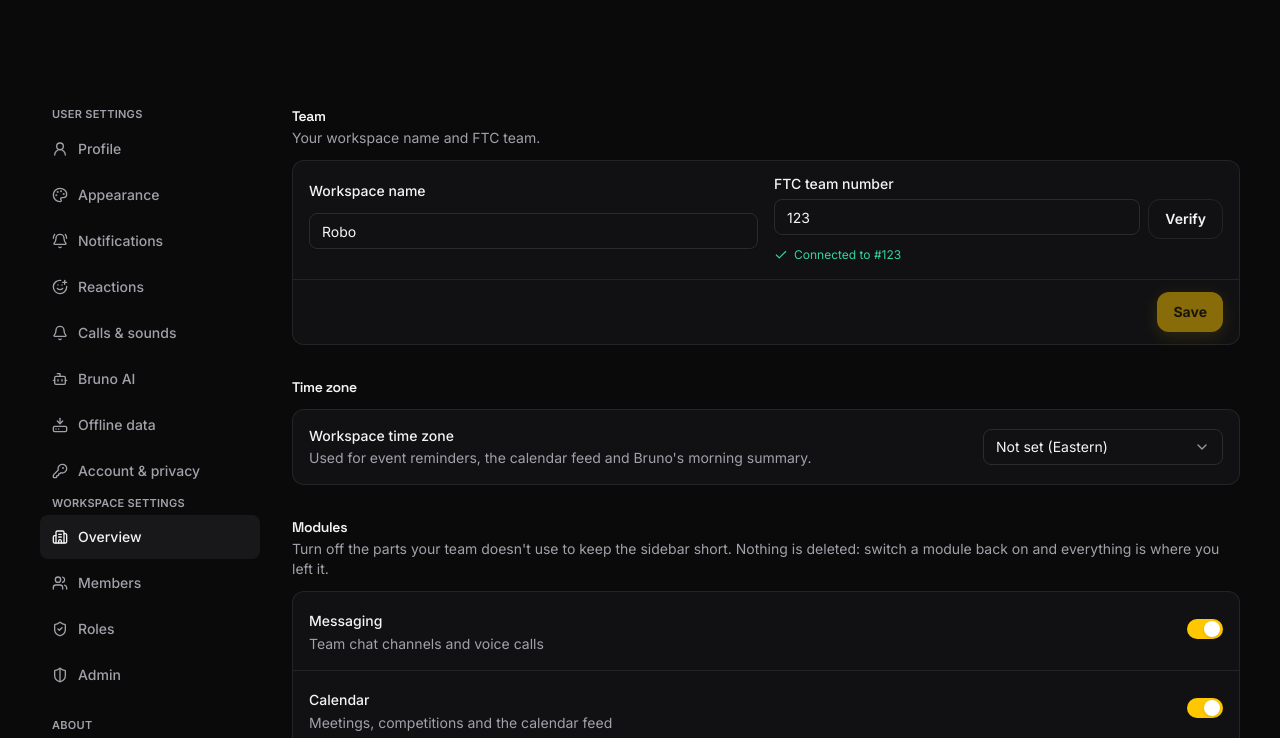
Scenario: Modern Settings — workspace & admin › admins verify and save the FTC team with the Legacy body; invite code regenerates after a second click
This screenshot has width=1280, height=738.
Replace the text in the field labelled "FTC team number" with "4215": coordinates (957, 217) [774,199,1140,235]
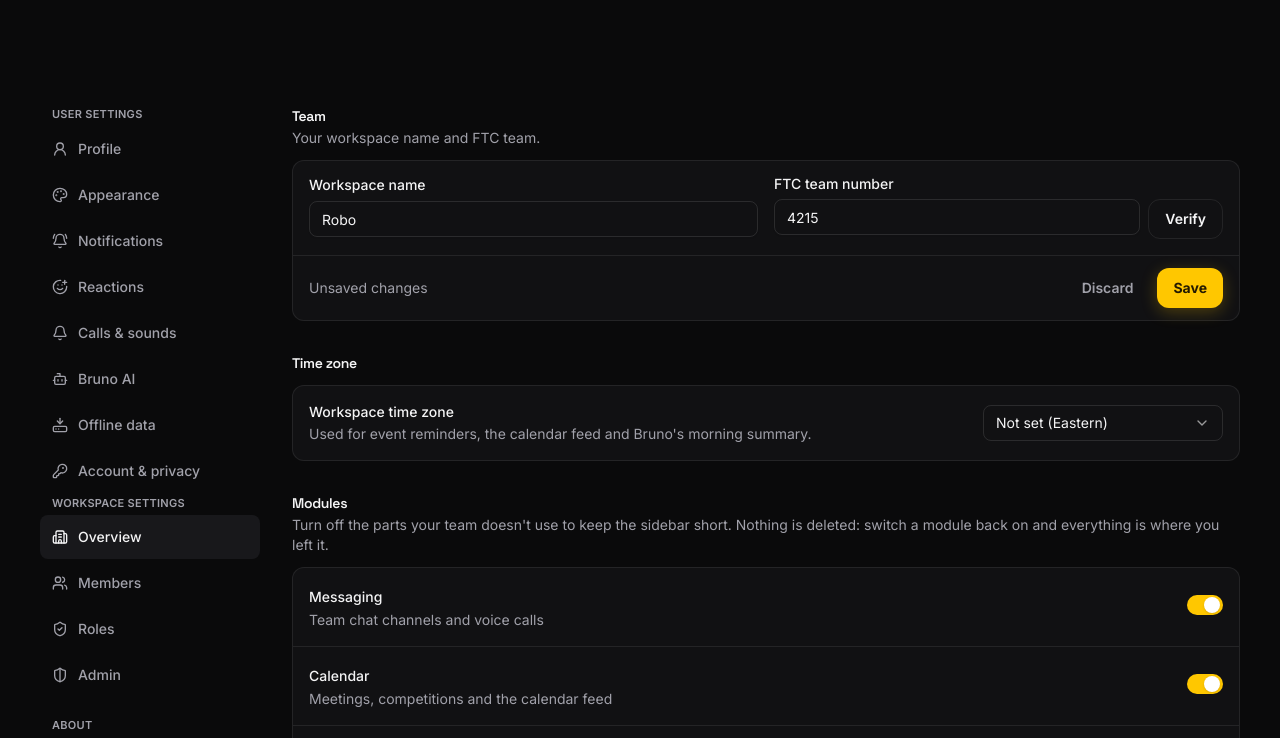
Click the button "Verify": coordinates (1186, 219) [1148,199,1223,239]
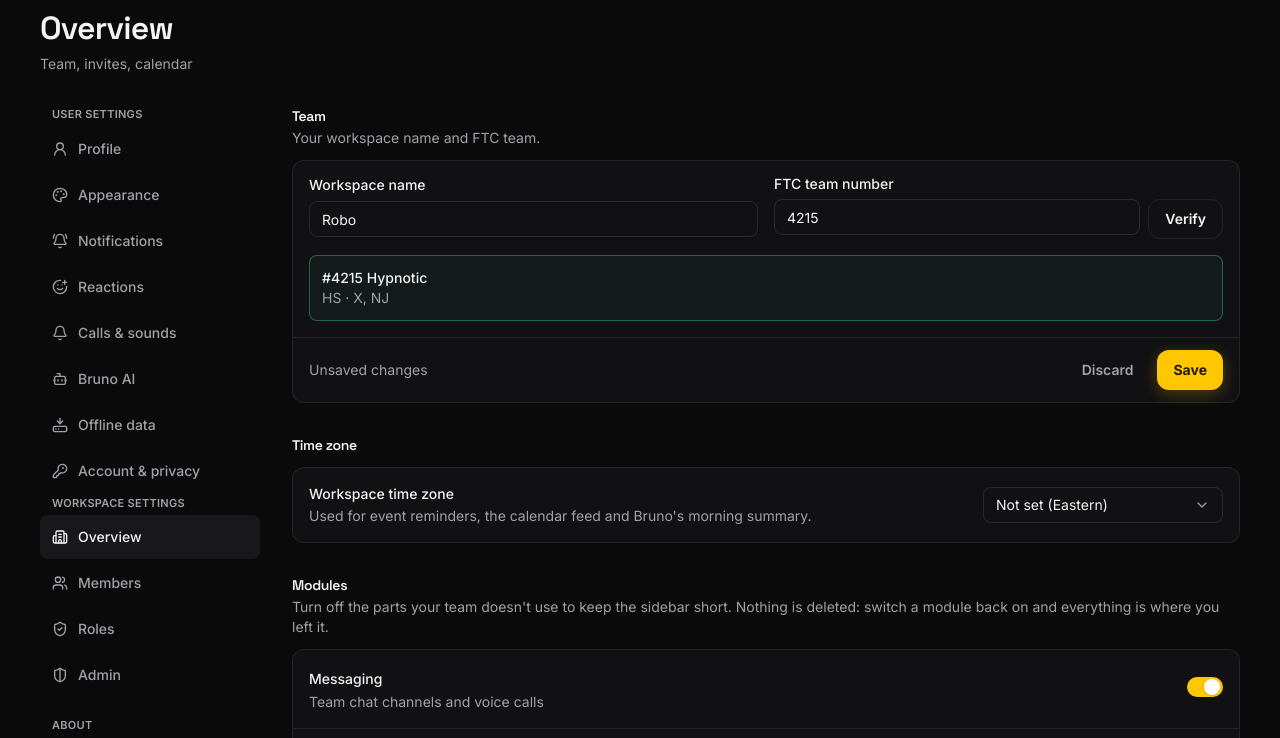
Expected: the text "#4215 Hypnotic" is shown, [322,269,427,286]
Click the button "Save": coordinates (1190, 370) [1158,350,1223,390]
(page scrolled)
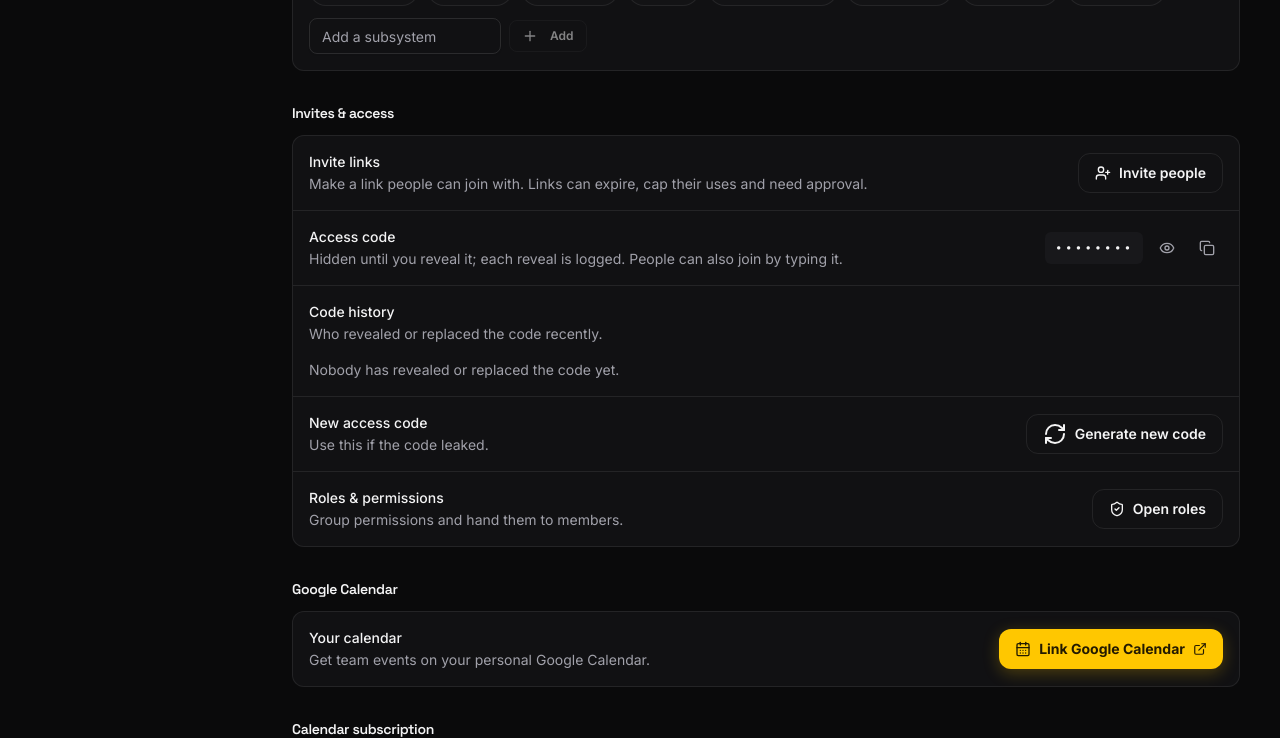
Click the button "Generate new code": coordinates (1124, 434) [1026,414,1223,454]
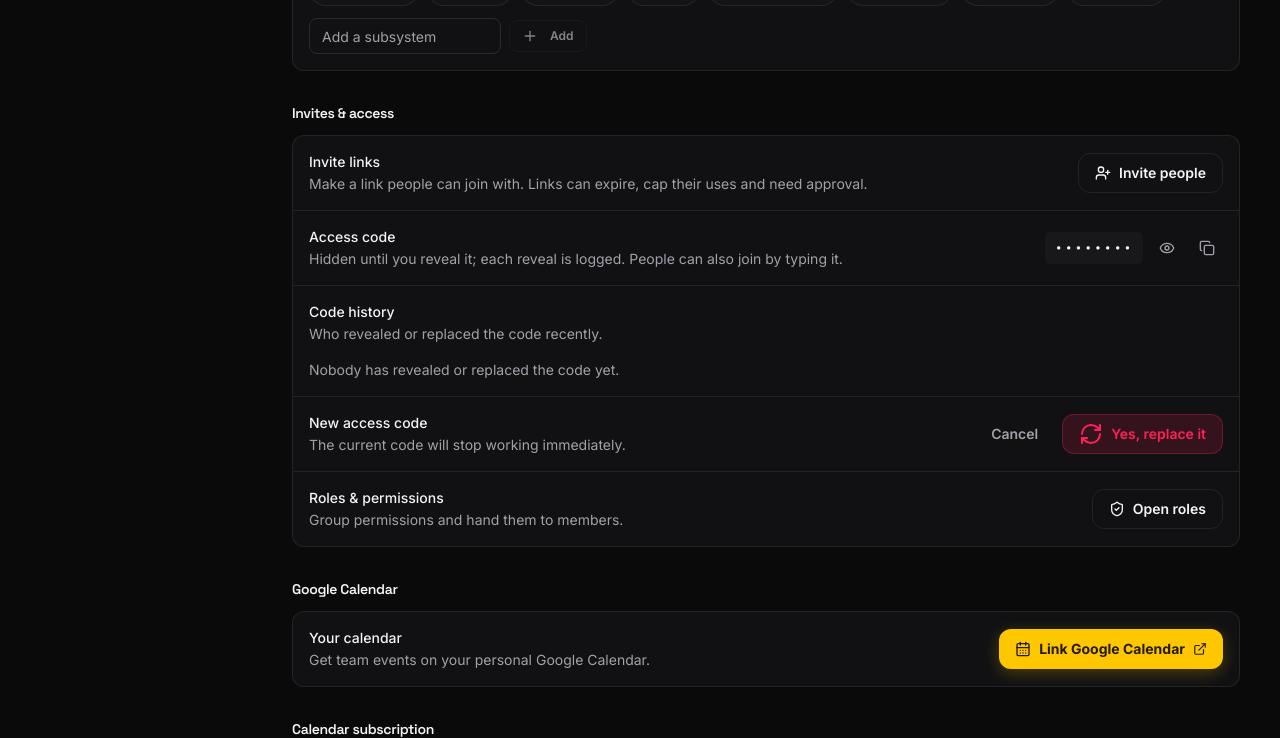
Click the button "Yes, replace it": coordinates (1143, 434) [1062,414,1223,454]
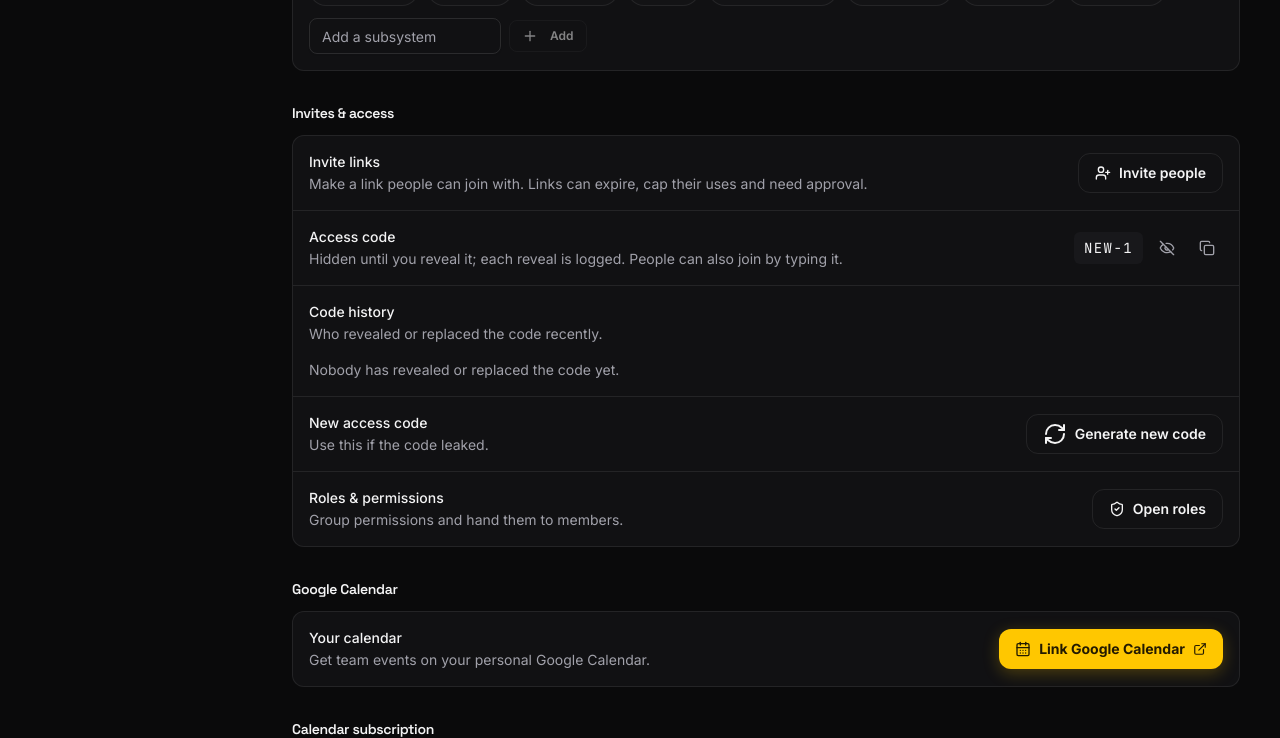
Expected: the text "NEW-1" is shown, [1074,232,1143,264]
